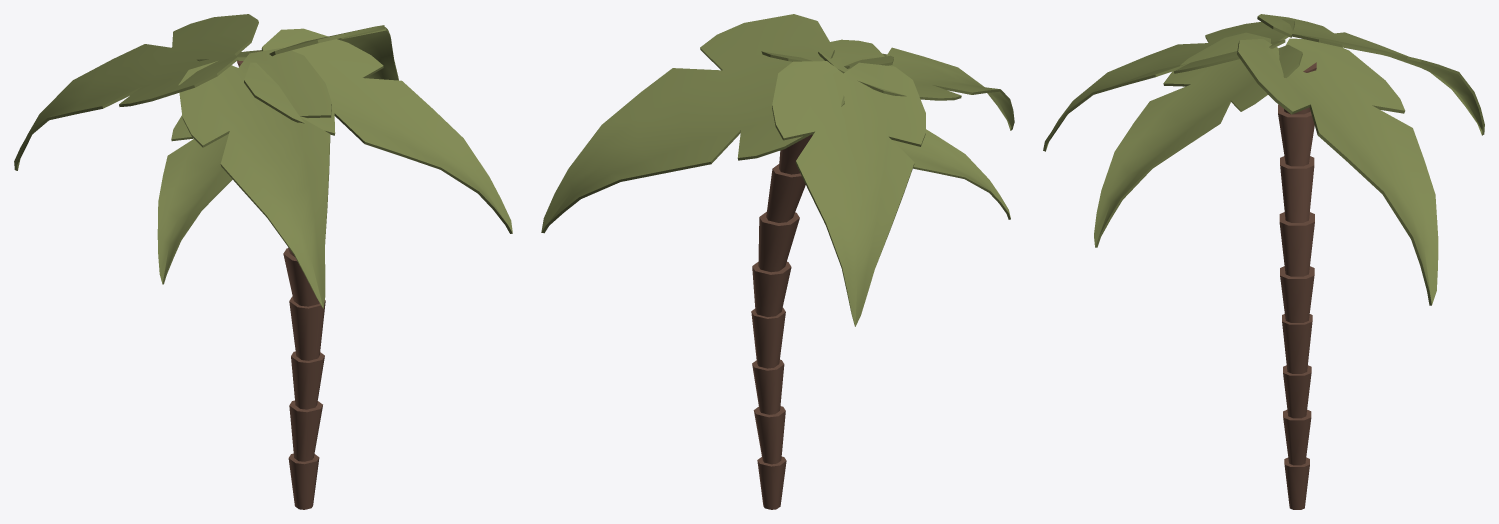
The model's file is tree_A.fbx.
3 renders of one model, left to right at view 1: azimuth 30°, elevation 25°; view 2: azimuth 150°, elevation 25°; view 3: azimuth 270°, elevation 25°, orthographic. The views are drawn at different scales.
Parts seen in each view (by area): view 1: Cube.001, Cube.005, Cube.003, palm tree, Cube.006, Cube.004; view 2: Cube.004, Cube.003, palm tree, Cube.001, Cube.006, Cube.005; view 3: Cube.004, Cube.005, palm tree, Cube.001, Cube.003.
Boxes of the visible parts, x1,y1,x2,y2 form: Cube.001: [178, 47, 331, 308]; Cube.005: [244, 28, 512, 233]; Cube.003: [14, 14, 258, 170]; palm tree: [237, 51, 325, 509]; Cube.006: [157, 115, 232, 284]; Cube.004: [197, 25, 398, 80]; Cube.004: [541, 14, 844, 233]; Cube.003: [772, 61, 925, 326]; palm tree: [751, 134, 812, 509]; Cube.001: [818, 39, 1014, 130]; Cube.006: [812, 129, 1010, 219]; Cube.005: [761, 51, 893, 68]; Cube.004: [1237, 38, 1438, 305]; Cube.005: [1094, 32, 1302, 247]; palm tree: [1278, 62, 1316, 509]; Cube.001: [1043, 19, 1294, 151]; Cube.003: [1257, 14, 1484, 135].
Size of the model in its own units: 245 by 314 by 274.
